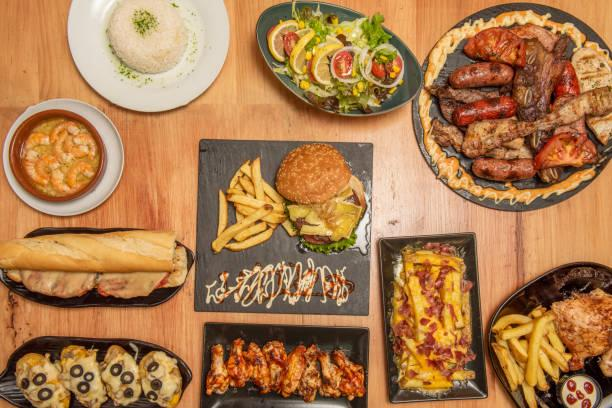Braised Crucian Carp: (412, 3, 607, 212), (193, 136, 379, 318), (254, 0, 421, 119), (1, 218, 197, 319), (377, 231, 487, 403), (67, 0, 227, 114), (487, 261, 610, 406), (192, 318, 375, 408), (2, 98, 123, 216), (0, 335, 195, 408)
